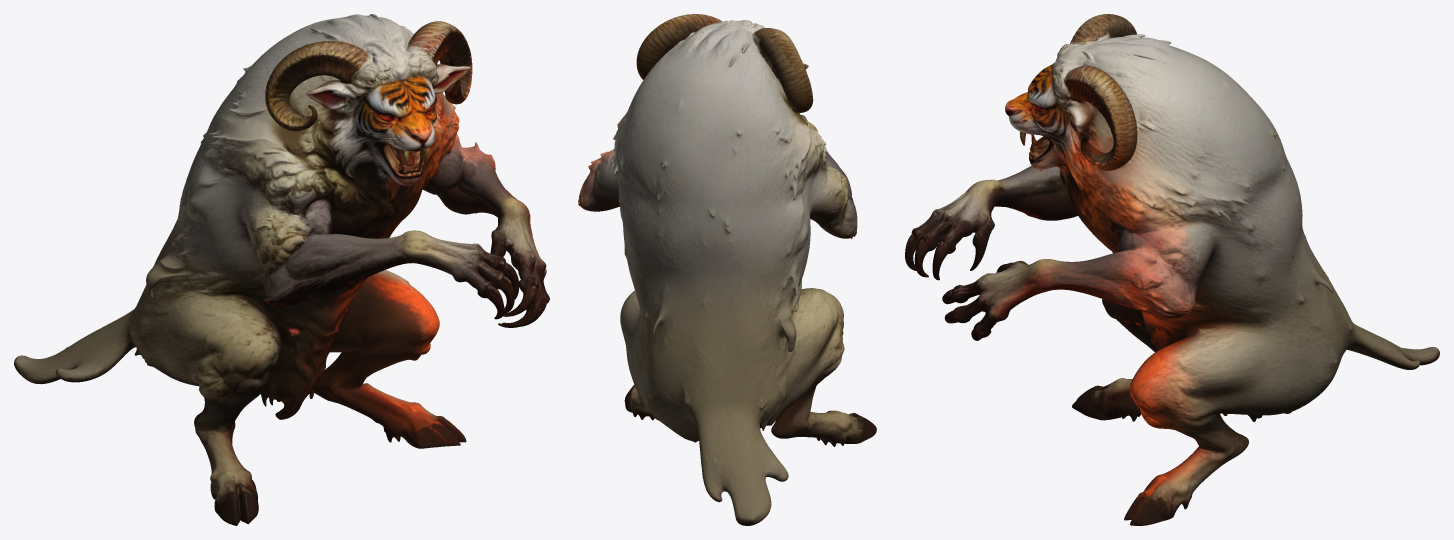
Rendered from tao-tie.glb.
3 renders of one model, left to right at view 1: azimuth 30°, elevation 25°; view 2: azimuth 150°, elevation 25°; view 3: azimuth 270°, elevation 25°, orthographic. The views are drawn at different scales.
Visible parts, largest first — view 1: node_0; view 2: node_0; view 3: node_0.
Boxes of the visible parts, left/top/right/bottom form: node_0: left=14, top=14, right=549, bottom=525; node_0: left=578, top=14, right=876, bottom=525; node_0: left=905, top=14, right=1439, bottom=525.
Bounding box in the file's own units: 0.5945 × 0.7577 × 0.8426.
1 material, 1 textured.
